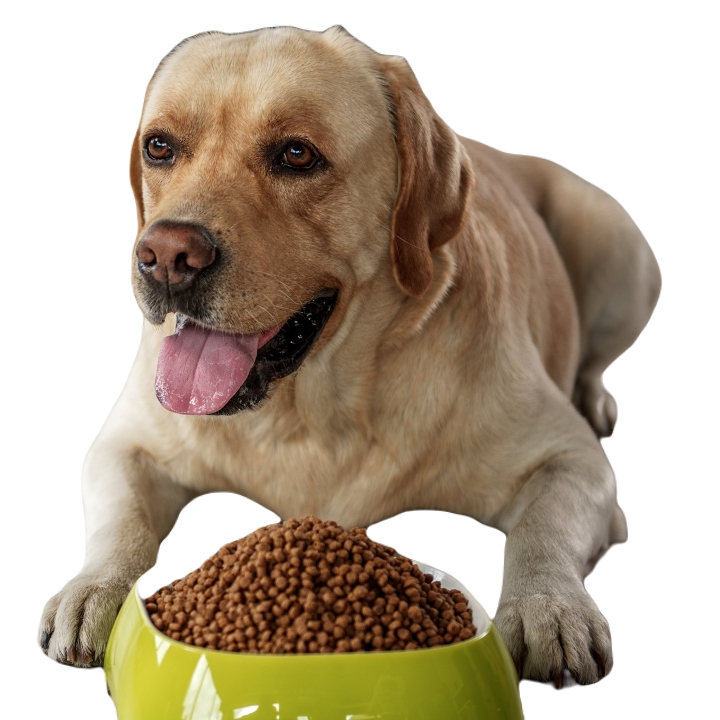Dog: (36, 17, 662, 683)
